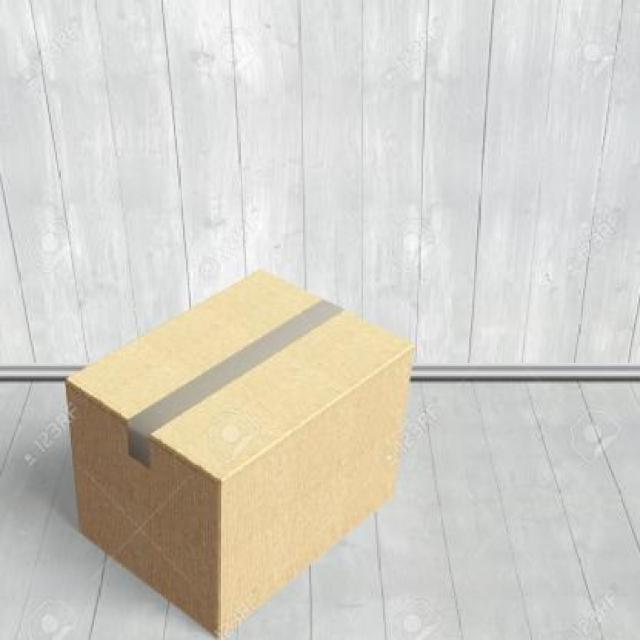box: (48, 261, 432, 640)
